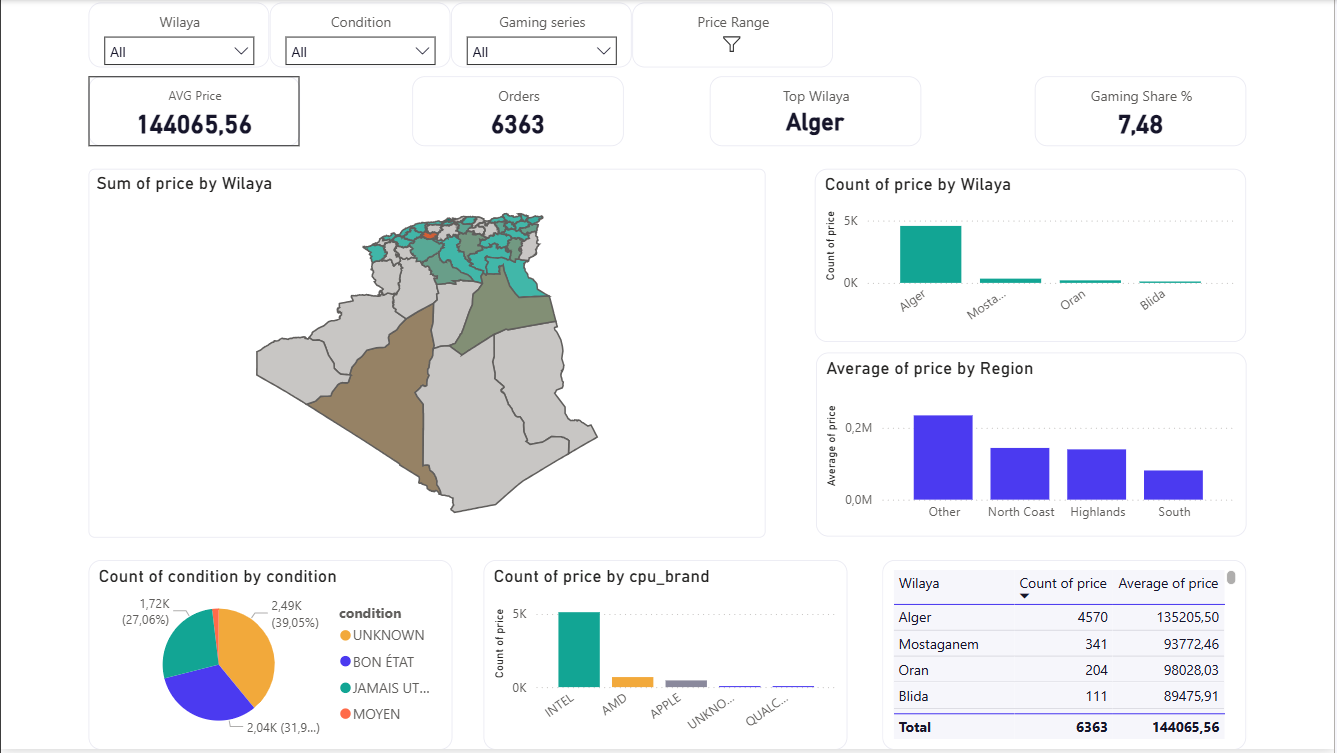

Layout of this report page (visuals, bound fields, positions):
{"tool":"powerbi","page":{"name":"Page 1","canvas":[1280,720],"ordinal":0},"visuals":[{"type":"card","fields":{"Values":["Avg(data_preprocessed.price)"]},"box":[83.7,73.3,203.5,67.4],"z":1000},{"type":"card","fields":{"Values":["CountNonNull(data_preprocessed.price)"]},"box":[395.3,73.3,203.5,67.4],"z":3000},{"type":"shapeMap","fields":{"Value":["Sum(data_preprocessed.price)"],"Category":["Location.Wilaya"]},"box":[83.7,161.9,650.4,354],"z":6000},{"type":"pieChart","fields":{"Category":["data_preprocessed.condition"],"Y":["CountNonNull(data_preprocessed.condition)"]},"box":[83.7,537.9,349.9,182.5],"z":7000},{"type":"tableEx","fields":{"Values":["Location.Wilaya","CountNonNull(data_preprocessed.price)1","Avg(data_preprocessed.price)"]},"box":[846.7,537.9,349.9,182.5],"z":8000},{"type":"clusteredColumnChart","fields":{"Y":["CountNonNull(data_preprocessed.price)"],"Category":["CPU.cpu_brand"]},"box":[463.8,537.9,349.9,182.5],"z":9000},{"type":"clusteredColumnChart","fields":{"Y":["CountNonNull(data_preprocessed.price)"],"Category":["Location.Wilaya"]},"box":[782.2,161.9,414.4,166],"z":10000},{"type":"clusteredColumnChart","fields":{"Category":["Location.Region"],"Y":["Avg(data_preprocessed.price)"]},"box":[782.6,338.4,414,176.7],"z":11001},{"type":"card","fields":{"Values":["data_preprocessed.Measure"]},"box":[993,73.3,203.5,67.4],"z":11002},{"type":"card","fields":{"Values":["data_preprocessed.Top Wilaya"]},"box":[680.8,73.2,202.9,67.2],"z":11003},{"type":"slicer","fields":{"Values":["Location.Wilaya"]},"box":[84.1,2.9,173.9,62.7],"z":11004},{"type":"slicer","fields":{"Values":["data_preprocessed.condition"]},"box":[258,2.9,173.9,62.7],"z":11005},{"type":"slicer","fields":{"Values":["data_preprocessed.is_gaming_series"]},"box":[431.9,2.9,173.9,62.7],"z":11006},{"type":"slicer","fields":{"Values":["data_preprocessed.price"]},"box":[605.8,2.9,192.4,62.7],"z":11007}]}

Visuals, with their boxes in screenshot pixels (x1, y1, x2, y2), scaled from the page's 1280x720 canvas onto the 1337x753 screenshot:
card - Avg(data_preprocessed.price): [x1=87, y1=77, x2=300, y2=147]
card - CountNonNull(data_preprocessed.price): [x1=413, y1=77, x2=625, y2=147]
shapeMap - Sum(data_preprocessed.price) x Location.Wilaya: [x1=87, y1=169, x2=767, y2=540]
pieChart - data_preprocessed.condition x CountNonNull(data_preprocessed.condition): [x1=87, y1=563, x2=453, y2=752]
tableEx - Location.Wilaya x CountNonNull(data_preprocessed.price)1: [x1=884, y1=563, x2=1250, y2=752]
clusteredColumnChart - CountNonNull(data_preprocessed.price) x CPU.cpu_brand: [x1=484, y1=563, x2=850, y2=752]
clusteredColumnChart - CountNonNull(data_preprocessed.price) x Location.Wilaya: [x1=817, y1=169, x2=1250, y2=343]
clusteredColumnChart - Location.Region x Avg(data_preprocessed.price): [x1=817, y1=354, x2=1250, y2=539]
card - data_preprocessed.Measure: [x1=1037, y1=77, x2=1250, y2=147]
card - data_preprocessed.Top Wilaya: [x1=711, y1=77, x2=923, y2=147]
slicer - Location.Wilaya: [x1=88, y1=3, x2=269, y2=69]
slicer - data_preprocessed.condition: [x1=269, y1=3, x2=451, y2=69]
slicer - data_preprocessed.is_gaming_series: [x1=451, y1=3, x2=633, y2=69]
slicer - data_preprocessed.price: [x1=633, y1=3, x2=834, y2=69]
